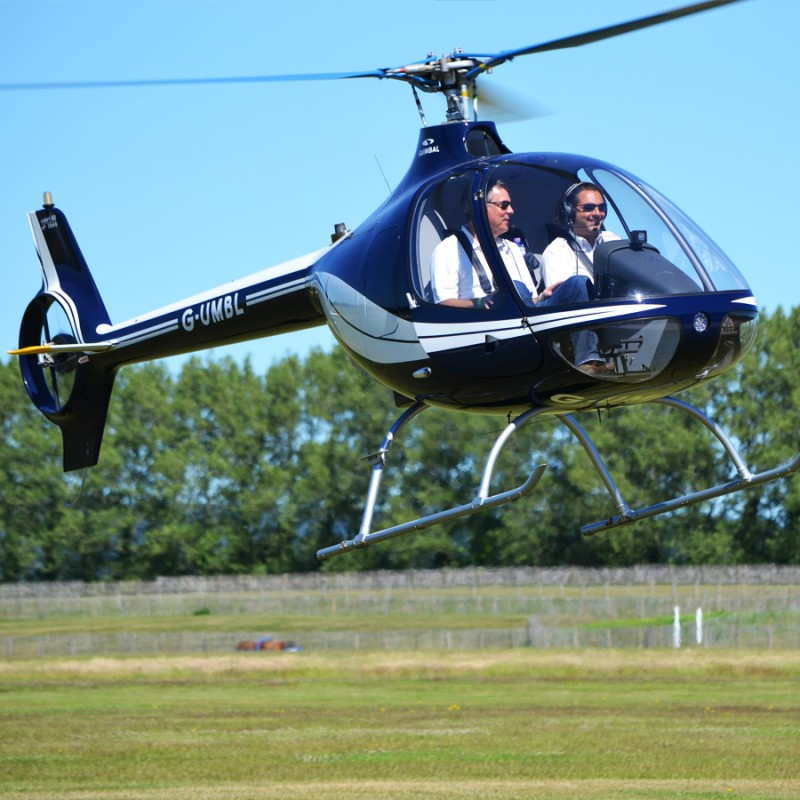Helicopter: (17, 4, 733, 551)
